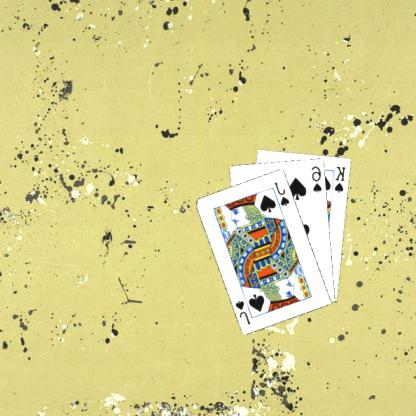6S: (310, 163, 325, 194)
JS: (234, 297, 254, 326), (274, 179, 292, 207)
KS: (334, 163, 349, 194)
